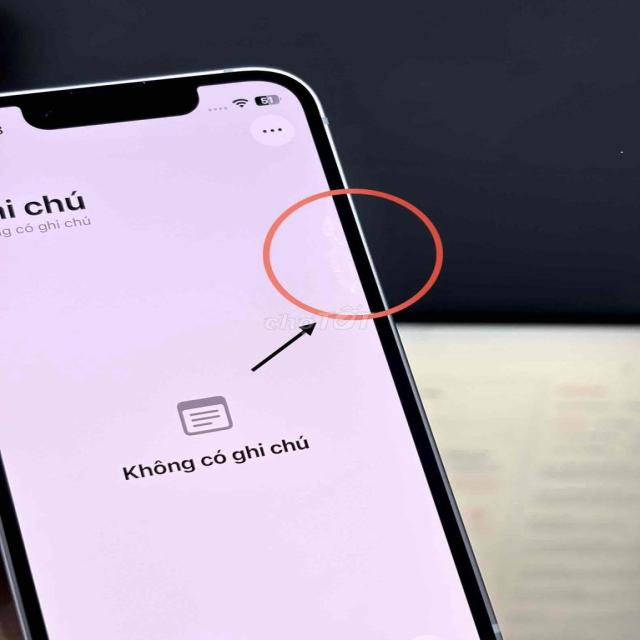gen_12_13: (0, 56, 519, 639)
screen_defect: (254, 167, 416, 340)
